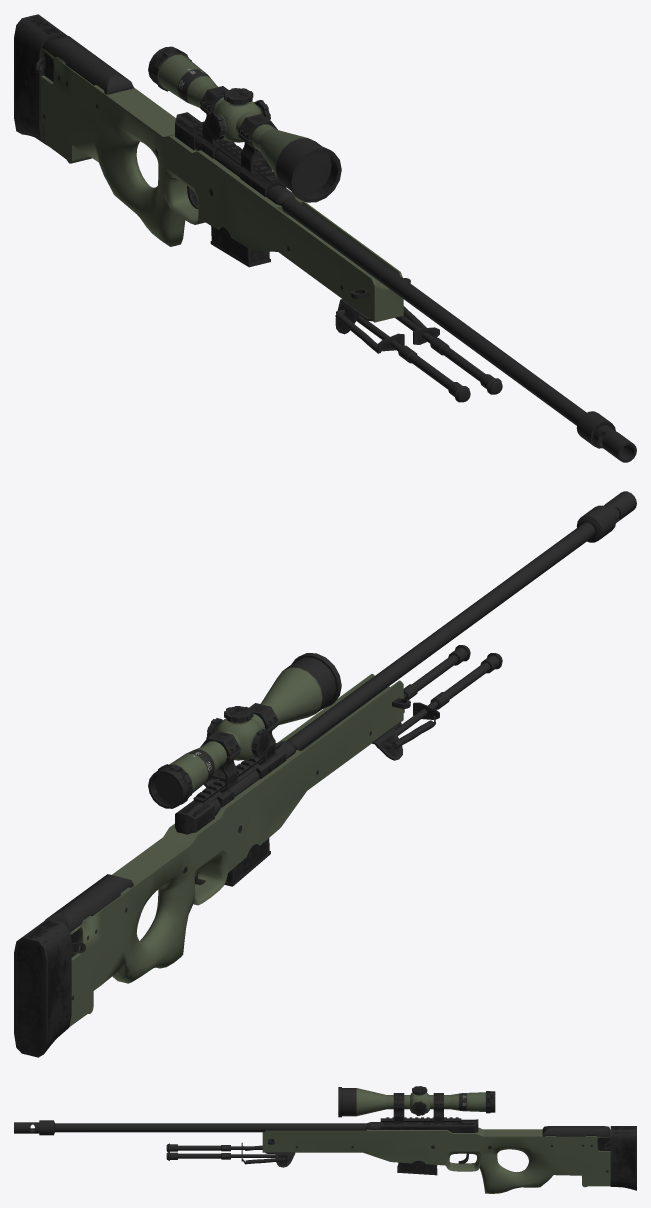
Rendered from LowPoly_Game_Ready_Awp_Sniper-Rifle.glb.
The picture shows the model from 3 angles, top to bottom: view 1: azimuth 30°, elevation 25°; view 2: azimuth 150°, elevation 25°; view 3: azimuth 270°, elevation 25°; orthographic projection. The views are drawn at different scales.
Parts seen in each view (by area): view 1: Frame.lp_Awp_0, Barrel.lp_Awp_0, Scope.001.lp_Awp_0, Rear Support.lp_Awp_0, Tripod.002.lp_Awp_0, Frame.001.lp_Awp_0, Scope Slide.lp_Awp_0, Scope.lp_Awp_0, Mag.lp_Awp_0, Scope.003.lp_Awp_0, Scope.002.lp_Awp_0, Tripod.001.lp_Awp_0; view 2: Frame.lp_Awp_0, Barrel.lp_Awp_0, Rear Support.lp_Awp_0, Scope.001.lp_Awp_0, Tripod.002.lp_Awp_0, Scope Slide.lp_Awp_0, Frame.001.lp_Awp_0, Scope.lp_Awp_0, Scope.002.lp_Awp_0, Mag.lp_Awp_0; view 3: Frame.lp_Awp_0, Barrel.lp_Awp_0, Scope.001.lp_Awp_0, Rear Support.lp_Awp_0, Scope Slide.lp_Awp_0, Tripod.002.lp_Awp_0, Frame.001.lp_Awp_0, Scope.lp_Awp_0, Mag.lp_Awp_0, Scope.003.lp_Awp_0, Scope.002.lp_Awp_0, Tripod.lp_Awp_0 (+1 smaller).
Boxes of the visible parts, x1,y1,x2,y2 form: Frame.lp_Awp_0: (41,48,403,322); Barrel.lp_Awp_0: (194,136,636,462); Scope.001.lp_Awp_0: (148,46,341,202); Rear Support.lp_Awp_0: (14,14,67,145); Tripod.002.lp_Awp_0: (336,309,502,402); Frame.001.lp_Awp_0: (42,36,133,94); Scope Slide.lp_Awp_0: (175,112,286,196); Scope.lp_Awp_0: (206,88,270,142); Mag.lp_Awp_0: (210,226,270,267); Scope.003.lp_Awp_0: (238,114,277,175); Scope.002.lp_Awp_0: (200,86,234,147); Tripod.001.lp_Awp_0: (335,306,426,353); Frame.lp_Awp_0: (69,674,403,1026); Barrel.lp_Awp_0: (212,491,636,815); Rear Support.lp_Awp_0: (14,919,71,1057); Scope.001.lp_Awp_0: (148,653,341,808); Tripod.002.lp_Awp_0: (376,645,502,749); Scope Slide.lp_Awp_0: (175,743,286,834); Frame.001.lp_Awp_0: (45,874,133,932); Scope.lp_Awp_0: (206,706,270,760); Scope.002.lp_Awp_0: (200,731,239,792); Mag.lp_Awp_0: (224,838,270,886); Frame.lp_Awp_0: (262,1127,610,1193); Barrel.lp_Awp_0: (14,1120,380,1135); Scope.001.lp_Awp_0: (338,1087,495,1117); Rear Support.lp_Awp_0: (610,1126,636,1190); Scope Slide.lp_Awp_0: (380,1117,478,1132); Tripod.002.lp_Awp_0: (166,1142,289,1161); Frame.001.lp_Awp_0: (542,1126,610,1136); Scope.lp_Awp_0: (410,1086,429,1115); Mag.lp_Awp_0: (397,1160,437,1175); Scope.003.lp_Awp_0: (393,1093,404,1123); Scope.002.lp_Awp_0: (433,1093,443,1123); Tripod.lp_Awp_0: (265,1152,295,1167).
Size of the model in its own units: 0.2865 by 0.8807 by 4.77.
1 material, 1 textured.
